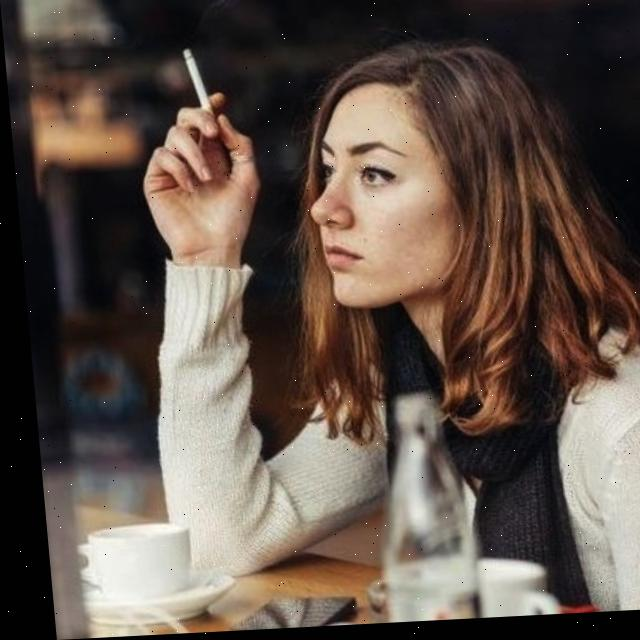cigarette: (181, 49, 213, 120)
